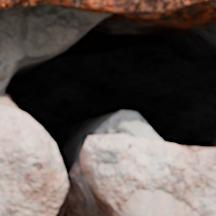brick: (0, 0, 196, 17)
broken_brick: (86, 133, 215, 215), (0, 95, 67, 215)
crack: (0, 0, 215, 215)
